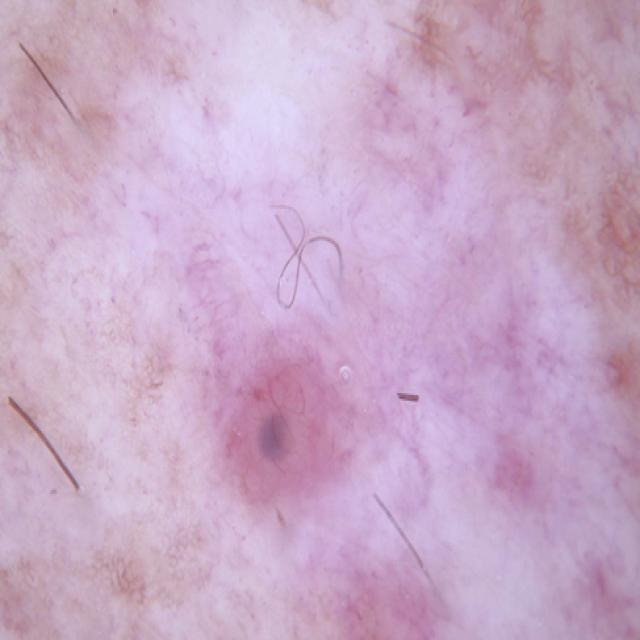Carcinoma: (144, 278, 409, 563), (429, 315, 640, 639)
